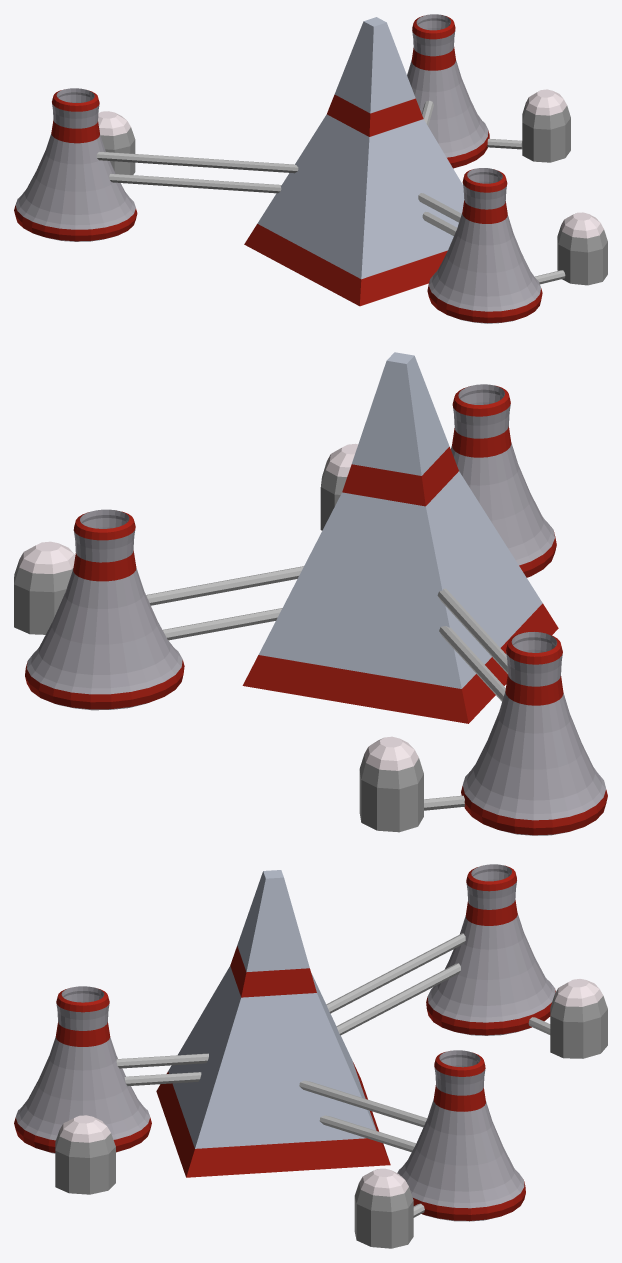
Rendered from final_building.fbx.
3 renders of one model, top to bottom at view 1: azimuth 30°, elevation 25°; view 2: azimuth 150°, elevation 25°; view 3: azimuth 270°, elevation 25°, orthographic. The views are drawn at different scales.
Visible parts, largest first — view 1: final building.011; view 2: final building.011; view 3: final building.011.
Boxes of the visible parts, <box> form: final building.011: <box>14,14,607,323</box>; final building.011: <box>14,352,607,835</box>; final building.011: <box>14,864,607,1248</box>.
Bounding box in the file's own units: 4131 × 1827 × 3874.
